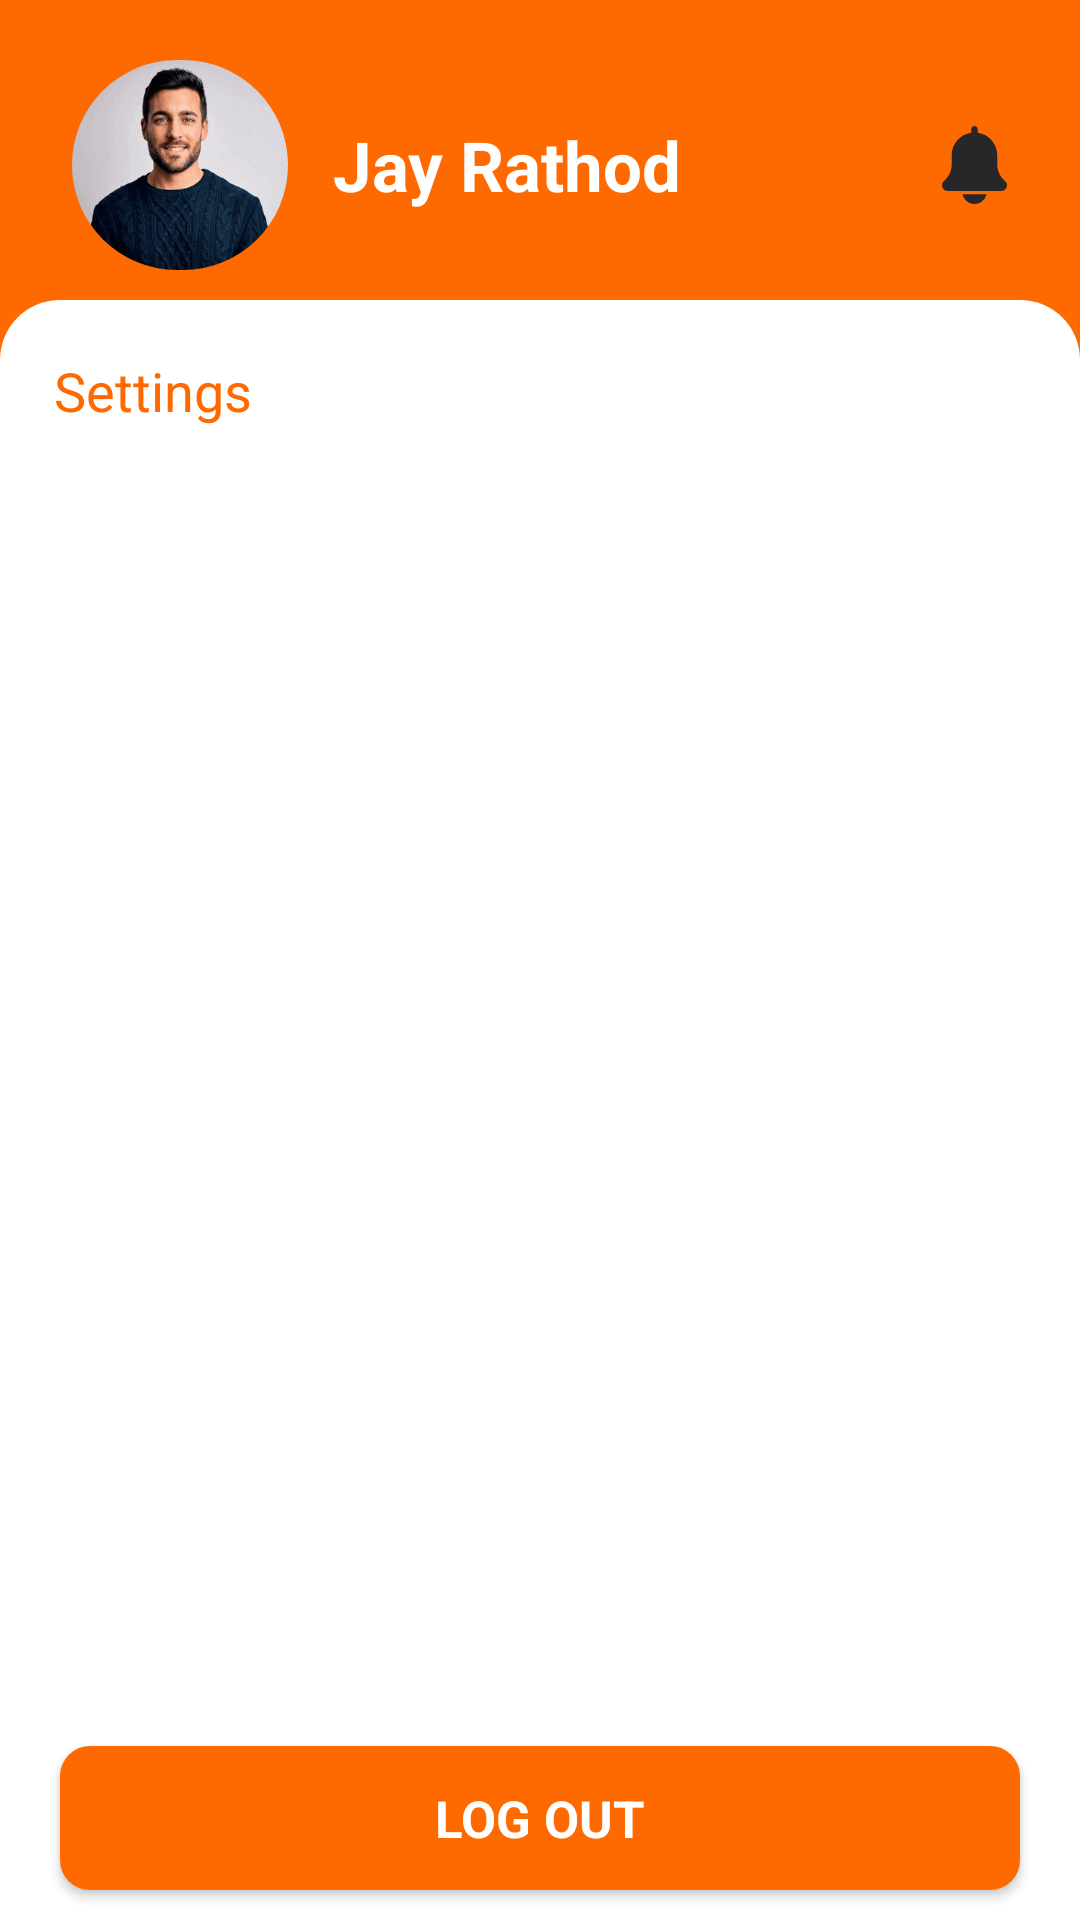

Icons on this 1080px×1920px Android screen, each with its box as (x1, y1, x2, y2):
bell: (942, 126, 1007, 204)
profile: (72, 60, 288, 270)
